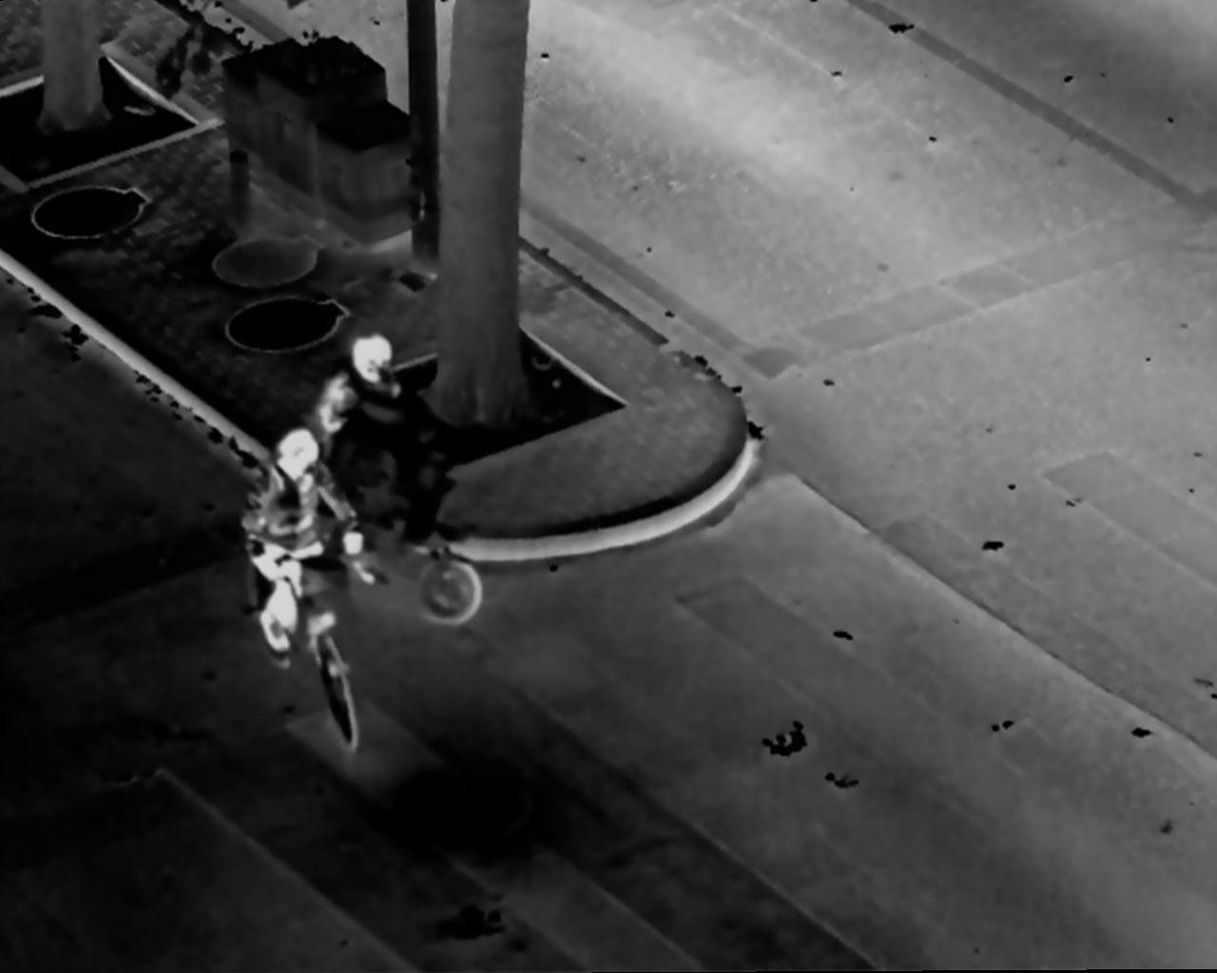person: (248, 425, 367, 668), (313, 340, 442, 563)
